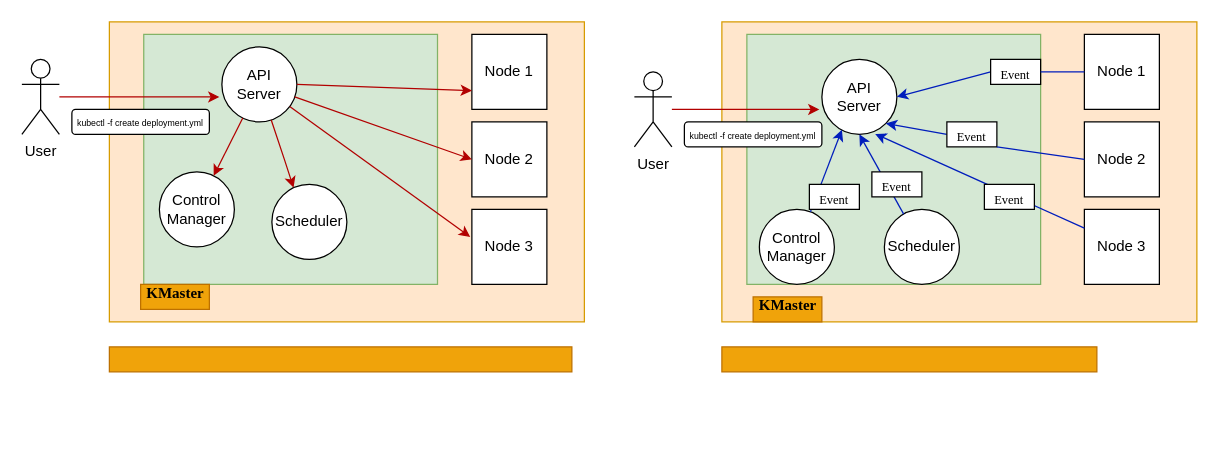
Some shapes in this 1219 by 463 pixel diagram are drawn without their labels. Here are the shapes that lost their labels. From the top down, the centre of each, then its label:
[340,359]: What we think!!!
[909,359]: What Really Happens!!!
